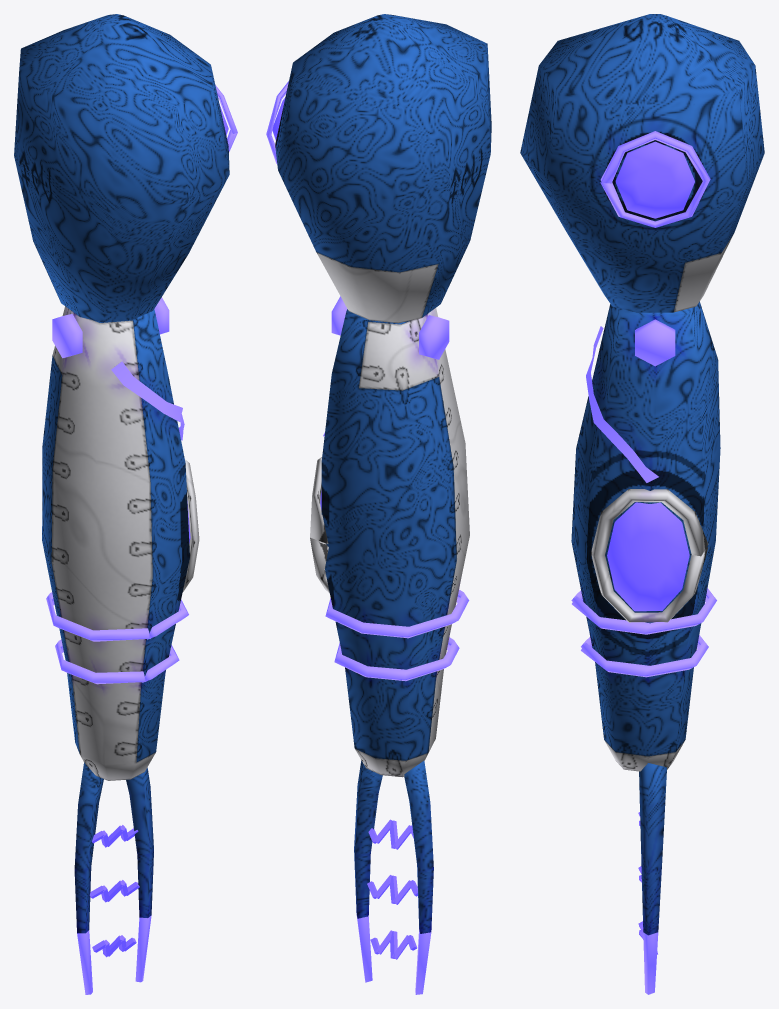
The model's file is RightArcRifleArmZ.glb.
3 views of the same model, side by side, from view 1: azimuth 30°, elevation 25°; view 2: azimuth 150°, elevation 25°; view 3: azimuth 270°, elevation 25° (orthographic).
Parts seen in each view (by area): view 1: RightArcRifleArmZ_Fore, RightArcRifleArmZ_Upper; view 2: RightArcRifleArmZ_Fore, RightArcRifleArmZ_Upper; view 3: RightArcRifleArmZ_Fore, RightArcRifleArmZ_Upper.
Boxes of the visible parts, x1,y1,x2,y2 form: RightArcRifleArmZ_Fore: (42, 297, 199, 994); RightArcRifleArmZ_Upper: (14, 14, 237, 322); RightArcRifleArmZ_Fore: (310, 296, 469, 994); RightArcRifleArmZ_Upper: (266, 14, 491, 323); RightArcRifleArmZ_Fore: (571, 301, 720, 994); RightArcRifleArmZ_Upper: (520, 14, 764, 312).
Size of the model in its own units: 4.38 by 22.81 by 5.25.
5 materials, 3 textured.
